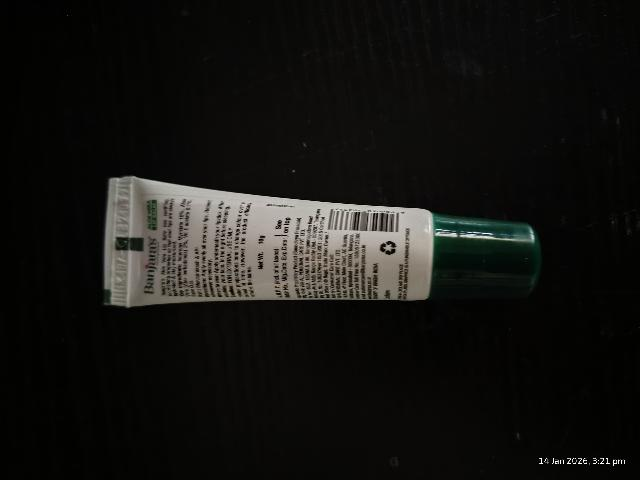banjaras lipbam: (91, 161, 557, 331)
